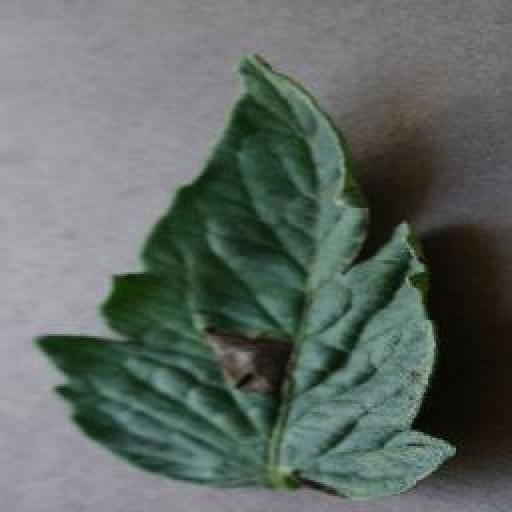disease_tomato: (35, 48, 460, 506)
